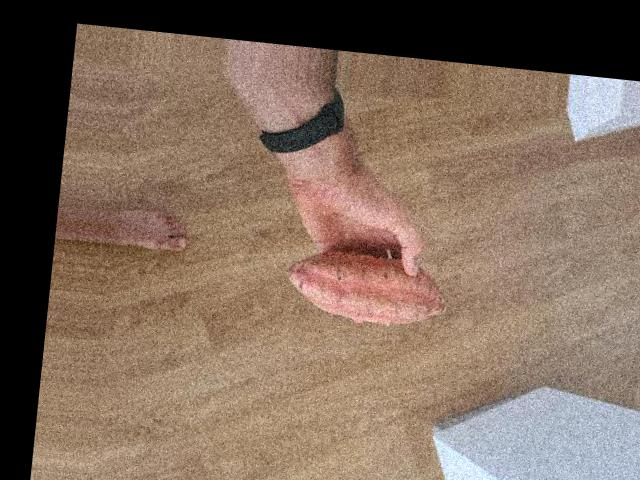sweet_potato: (282, 243, 444, 328)
